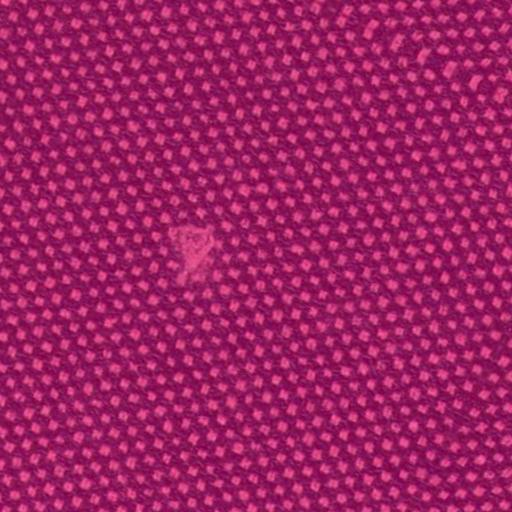knot: (164, 215, 218, 291)
